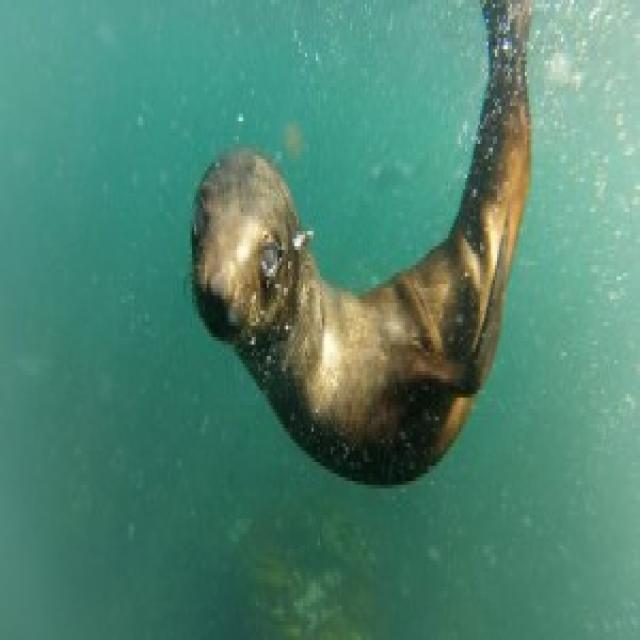Seal: (190, 13, 564, 512)
